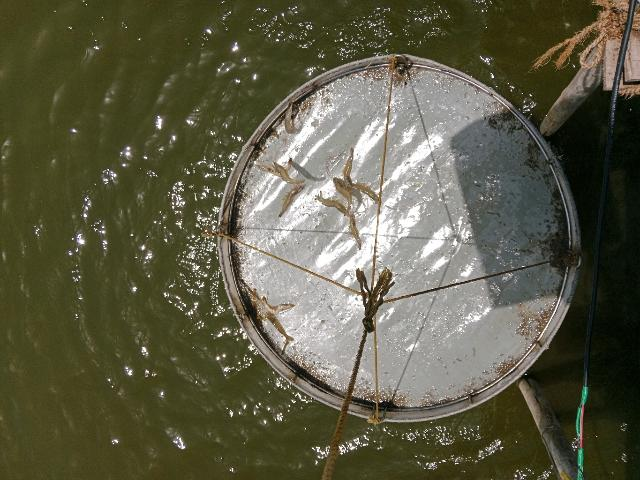shrimp: (333, 149, 380, 209), (316, 196, 361, 248), (256, 158, 304, 185), (278, 184, 308, 218), (261, 296, 298, 314), (342, 148, 356, 194), (332, 177, 352, 206), (348, 214, 361, 249), (285, 103, 299, 134), (330, 200, 350, 215)
